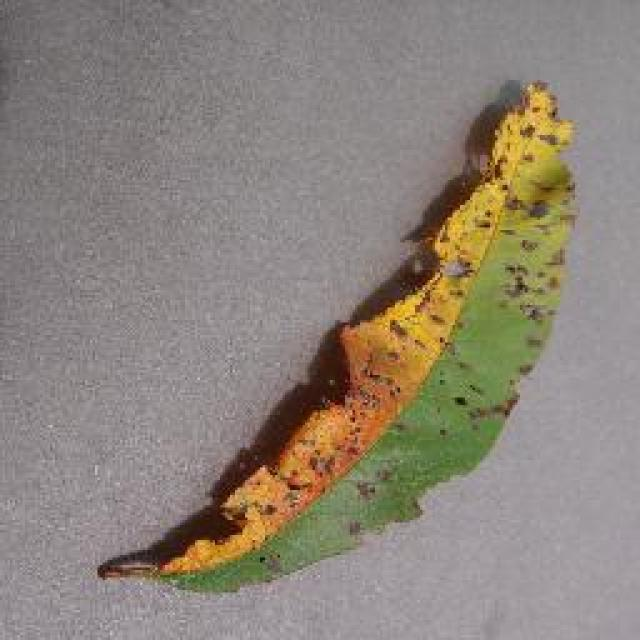Peach_Bacterial_Spot: (367, 173, 503, 420)
